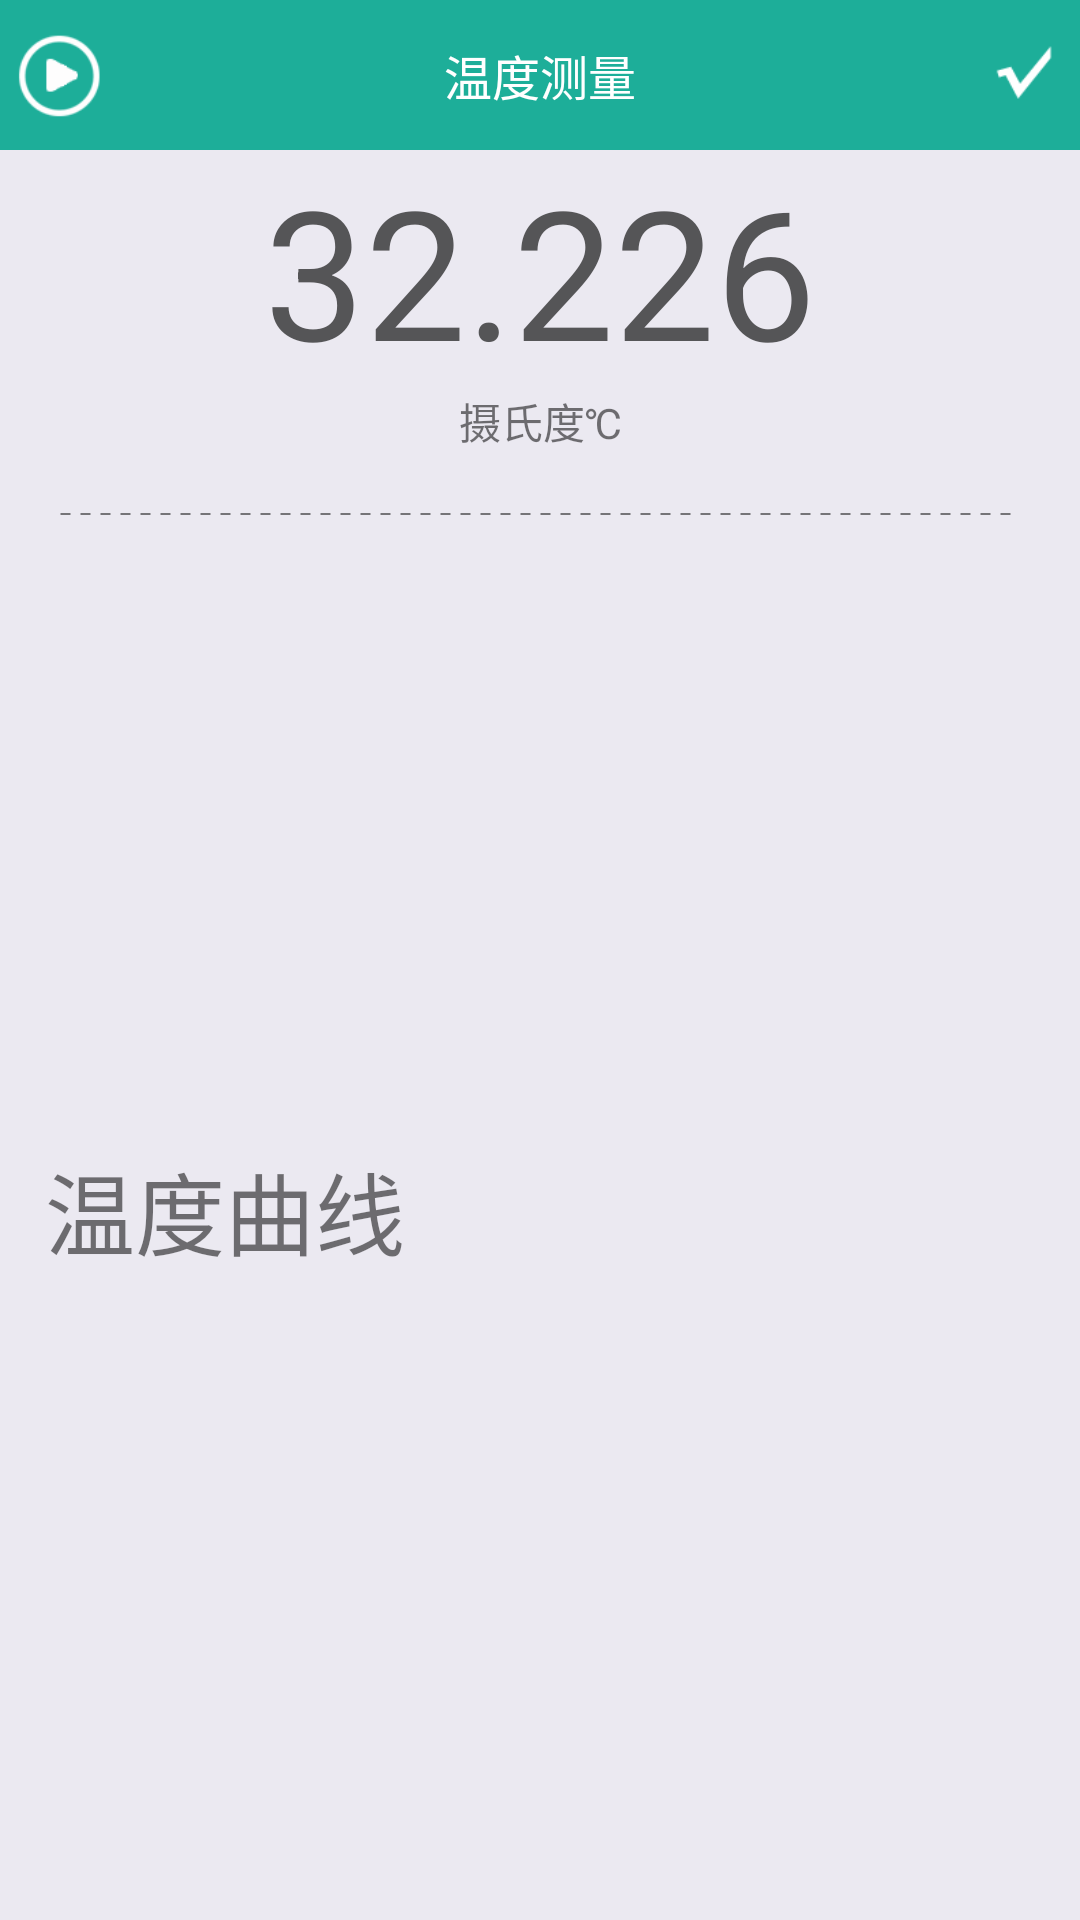

Where to tap for icons on this 1080×1920 app screen, as (x=x, y=y):
start: (x=59, y=76)
